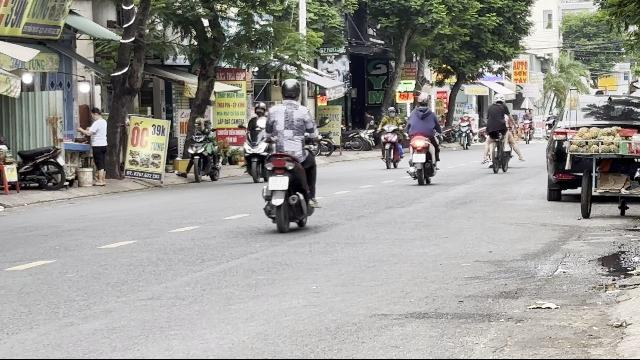helmet: (279, 78, 301, 102)
licenseplate: (268, 176, 288, 190)
motorcyclist: (258, 78, 322, 232)
